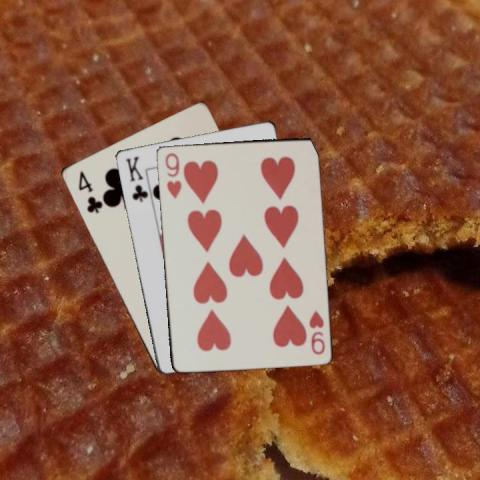4c: (75, 168, 103, 215)
9h: (162, 150, 183, 199), (306, 307, 326, 356)
Kc: (123, 154, 148, 204)
